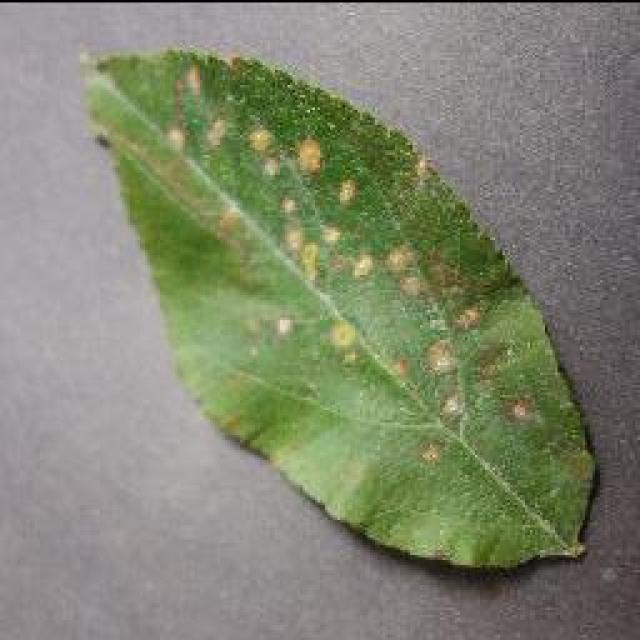apple rust disease: (78, 42, 598, 572)
